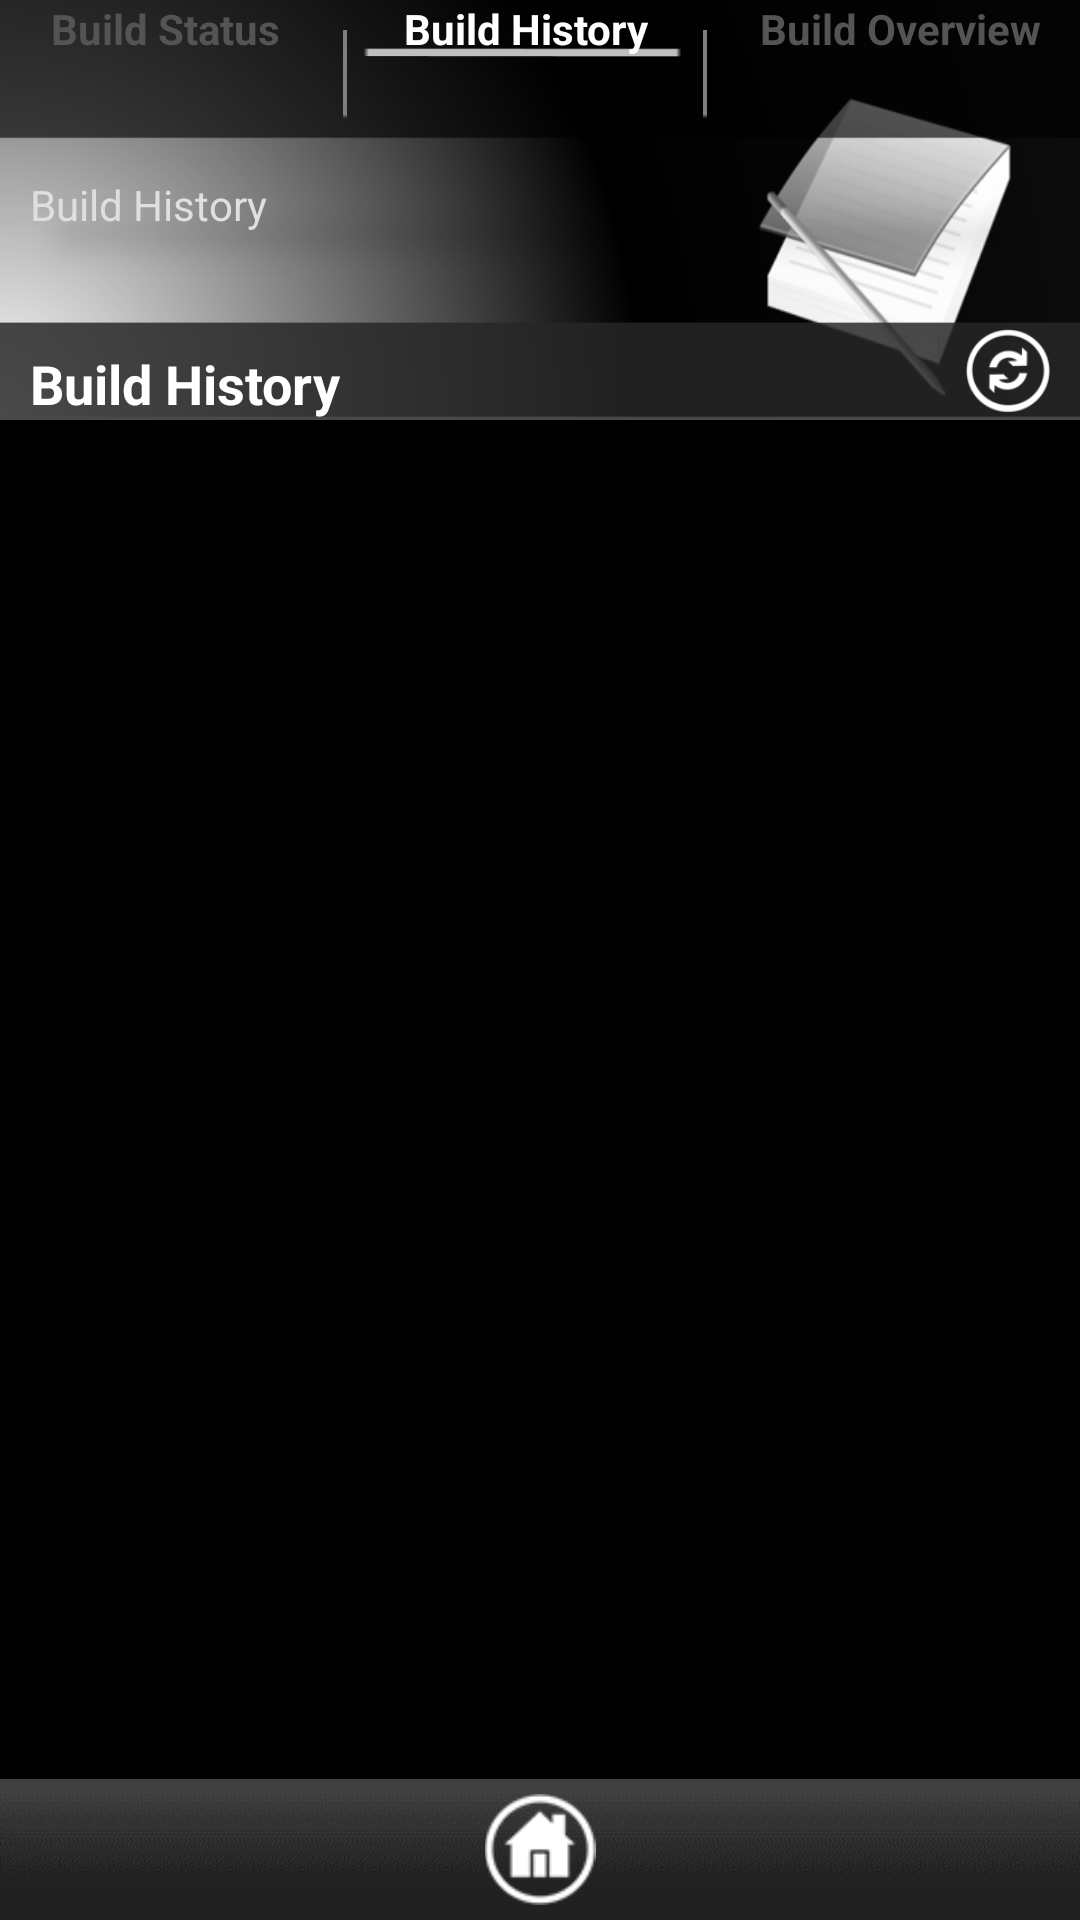

Where to tap for icons on this 1080px x 1920px app screen, as [x,y]:
homeicon: [540,1849]
